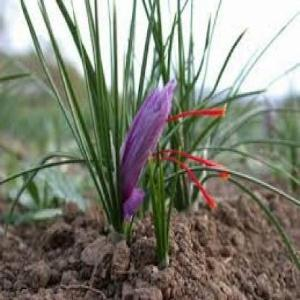Saffron: (112, 78, 178, 217)
